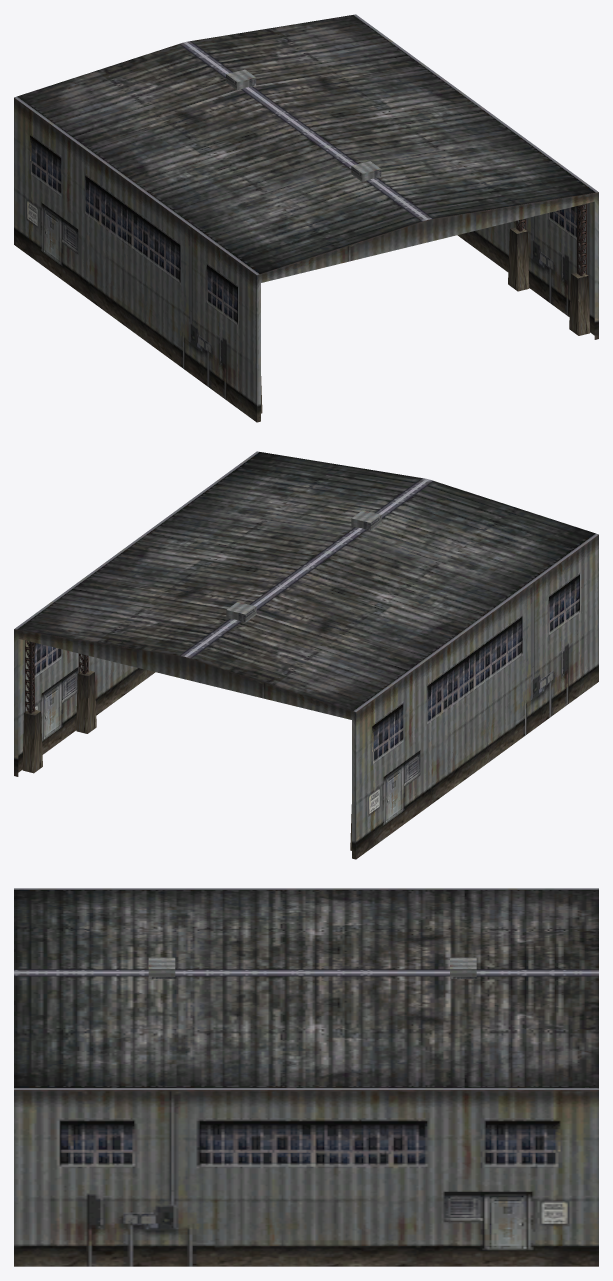
The model's file is MGarage1.glb.
3 renders of one model, top to bottom at view 1: azimuth 30°, elevation 25°; view 2: azimuth 150°, elevation 25°; view 3: azimuth 270°, elevation 25°, orthographic. The views are drawn at different scales.
Parts seen in each view (by area): view 1: _MGarage1; view 2: _MGarage1; view 3: _MGarage1.
Part boxes in pixels (x1=…): _MGarage1: x1=14, y1=14, x2=598, y2=422; _MGarage1: x1=14, y1=451, x2=598, y2=859; _MGarage1: x1=14, y1=888, x2=598, y2=1266.
Bounding box in the file's own units: 20.32 × 9.56 × 25.
2 materials, 2 textured.
